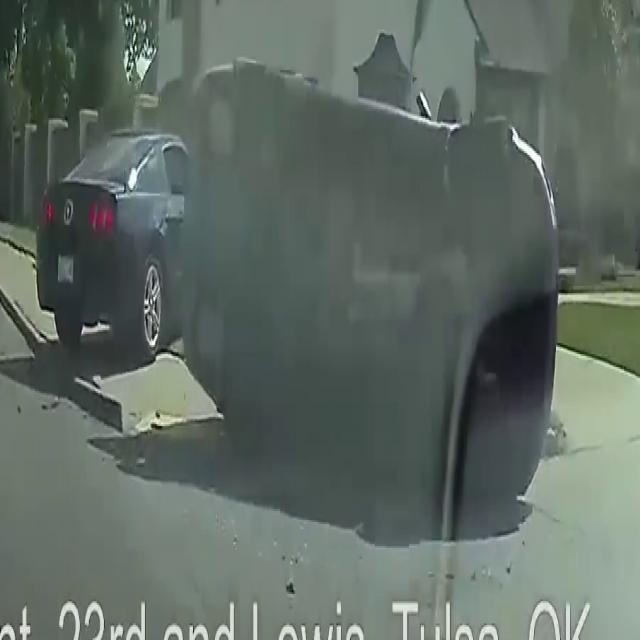accident: (175, 31, 572, 546)
